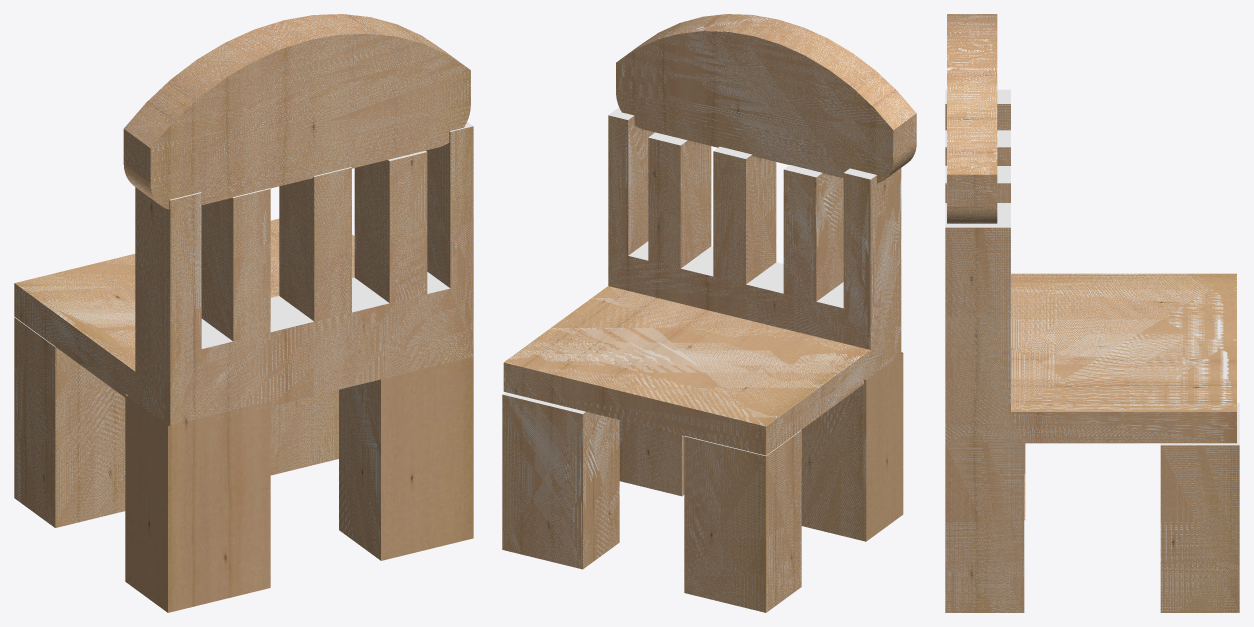
The picture shows the model from 3 angles, left to right: view 1: azimuth 30°, elevation 25°; view 2: azimuth 150°, elevation 25°; view 3: azimuth 270°, elevation 25°; orthographic projection. The views are drawn at different scales.
Visible parts, largest first — view 1: mesh2_mesh2-geometry, mesh5_mesh5-geometry, mesh3_mesh3-geometry, mesh4_mesh4-geometry, mesh1_mesh1-geometry; view 2: mesh2_mesh2-geometry, mesh5_mesh5-geometry, mesh4_mesh4-geometry, mesh1_mesh1-geometry, mesh3_mesh3-geometry; view 3: mesh2_mesh2-geometry, mesh1_mesh1-geometry, mesh5_mesh5-geometry.
Boxes of the visible parts, box(x1,y1,x2,y2) form: mesh2_mesh2-geometry: box(14, 122, 473, 560); mesh5_mesh5-geometry: box(123, 14, 470, 209); mesh3_mesh3-geometry: box(125, 394, 270, 612); mesh4_mesh4-geometry: box(14, 317, 125, 527); mesh1_mesh1-geometry: box(270, 389, 338, 475); mesh2_mesh2-geometry: box(503, 107, 901, 496); mesh5_mesh5-geometry: box(616, 14, 916, 183); mesh4_mesh4-geometry: box(684, 430, 801, 612); mesh1_mesh1-geometry: box(502, 392, 619, 569); mesh3_mesh3-geometry: box(801, 352, 903, 541); mesh2_mesh2-geometry: box(945, 89, 1236, 612); mesh1_mesh1-geometry: box(1160, 403, 1239, 612); mesh5_mesh5-geometry: box(947, 14, 997, 223).
Bounding box in the file's own units: 0.4845 × 0.7726 × 0.4102.
